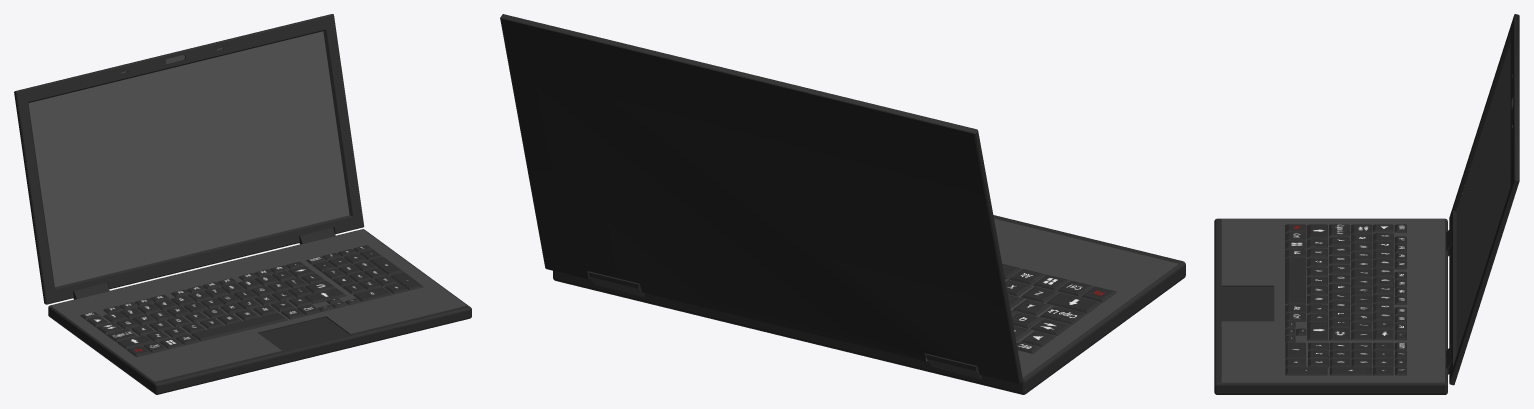
The model's file is BR_Laptop.glb.
3 renders of one model, left to right at view 1: azimuth 30°, elevation 25°; view 2: azimuth 150°, elevation 25°; view 3: azimuth 270°, elevation 25°, orthographic. The views are drawn at different scales.
Visible parts, largest first — view 1: Laptop screen, Laptop; view 2: Laptop; view 3: Laptop, Laptop screen.
Boxes of the visible parts, left/top/right/bottom form: Laptop screen: left=28, top=31, right=349, bottom=286; Laptop: left=14, top=14, right=471, bottom=394; Laptop: left=500, top=14, right=1185, bottom=394; Laptop: left=1214, top=14, right=1519, bottom=394; Laptop screen: left=1456, top=42, right=1510, bottom=354.
Bounding box in the file's own units: 0.4654 × 0.2818 × 0.36.
2 materials, 1 textured.
